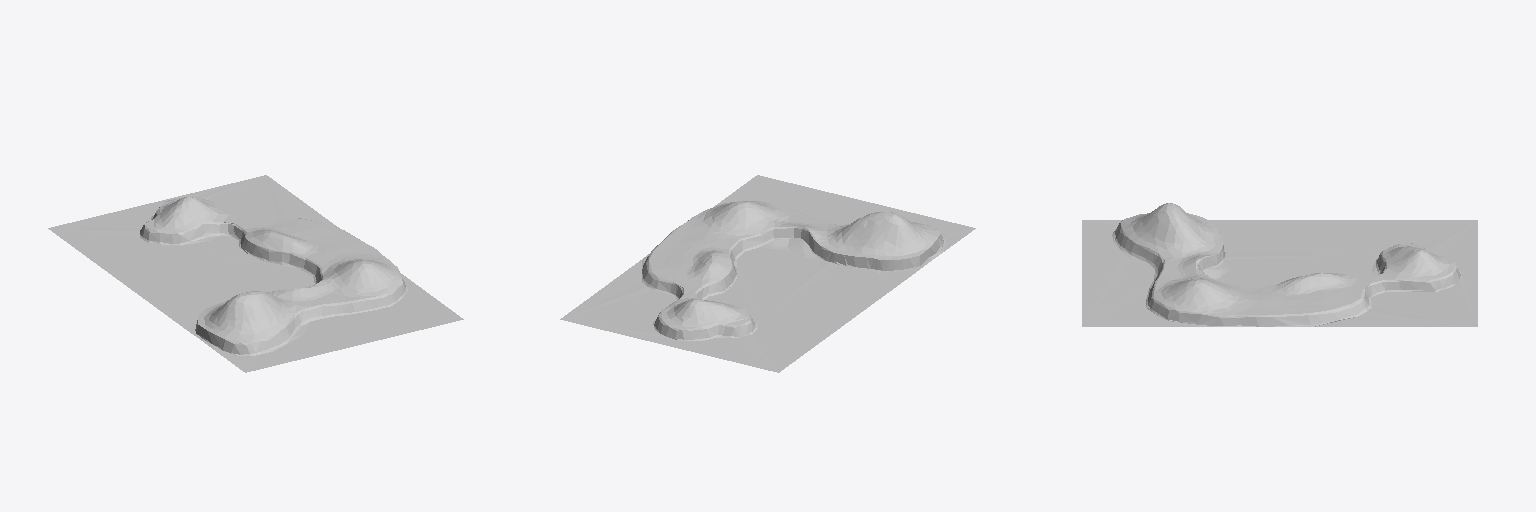
The model's file is Terrain_05_LP.obj.
The picture shows the model from 3 angles: view 1: azimuth 30°, elevation 25°; view 2: azimuth 150°, elevation 25°; view 3: azimuth 270°, elevation 25°; orthographic projection.
Parts seen in each view (by area): view 1: Terrain_05; view 2: Terrain_05; view 3: Terrain_05.
Part boxes in pixels (bbox=[...]): Terrain_05: bbox=[48, 175, 463, 372]; Terrain_05: bbox=[560, 175, 975, 372]; Terrain_05: bbox=[1082, 203, 1477, 326].
Bounding box in the file's own units: 48.03 × 7.52 × 75.01.